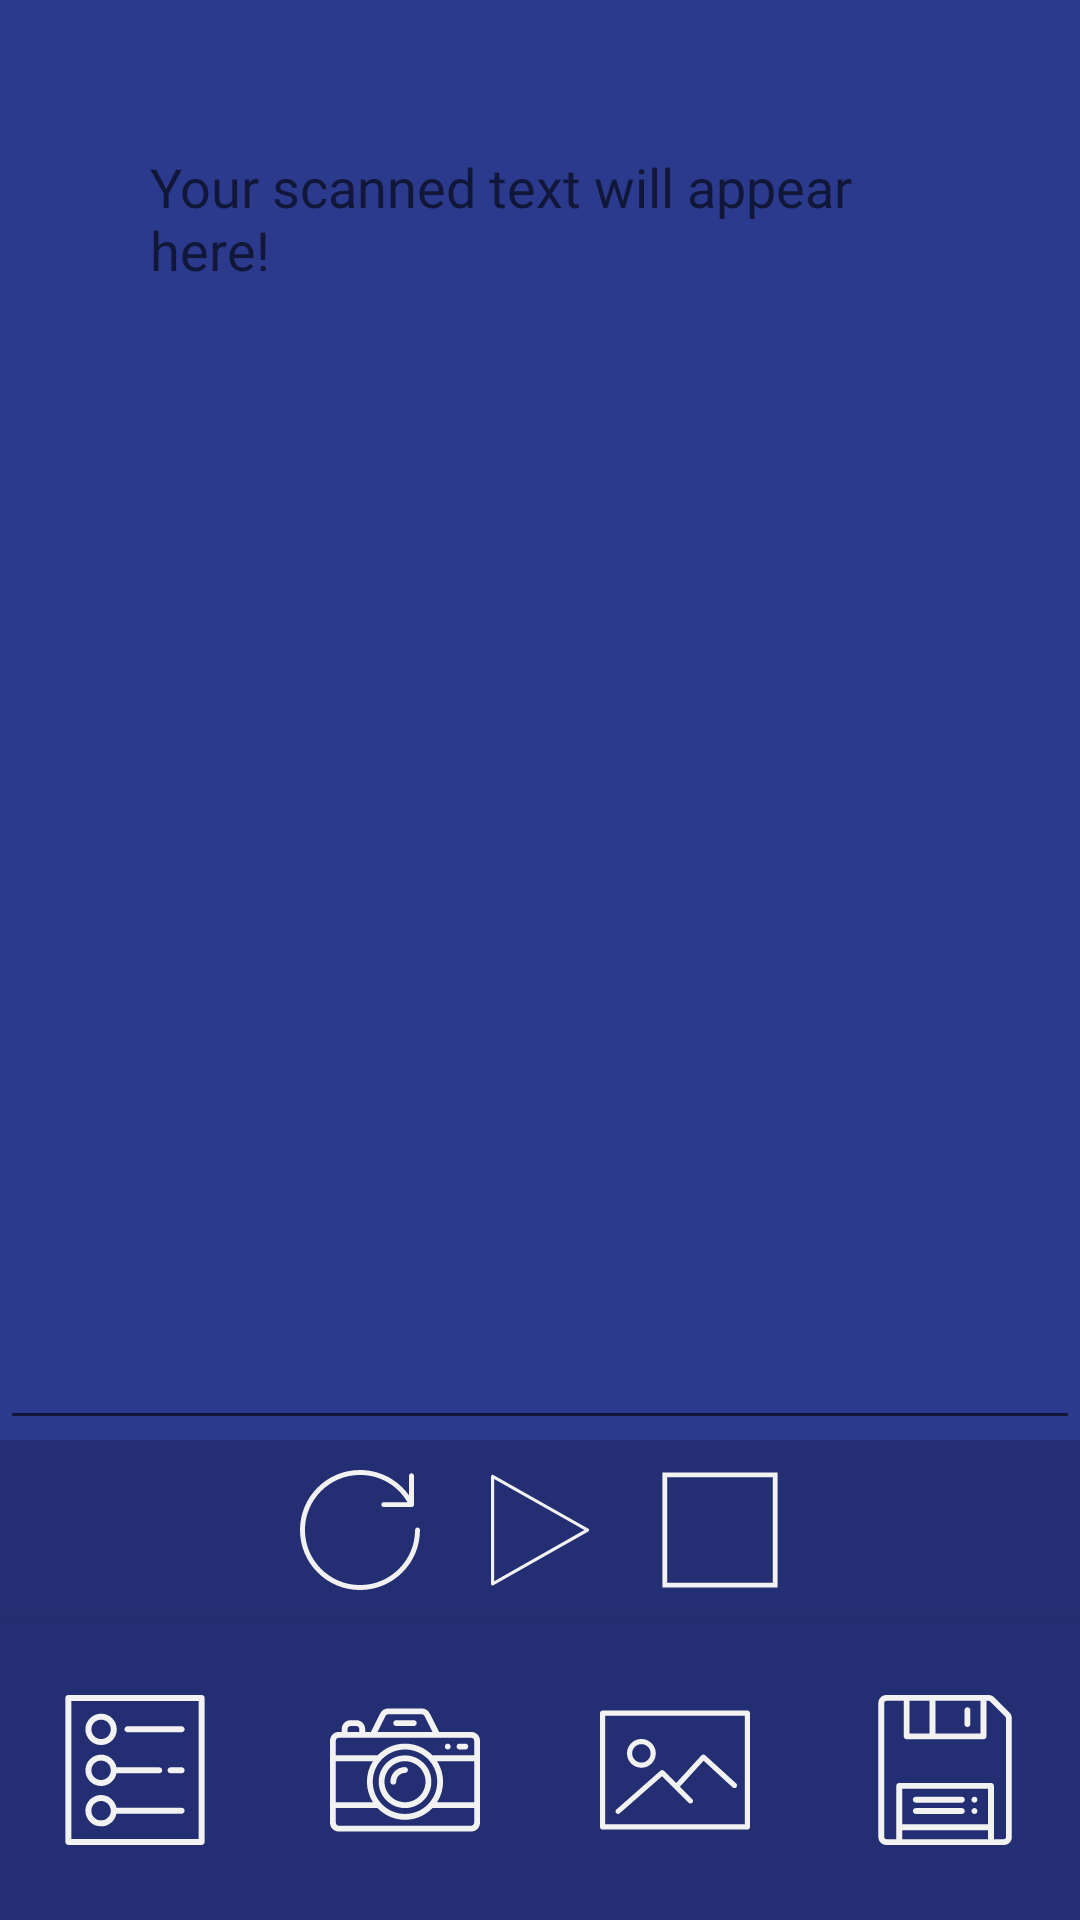

Where to tap for icons on this 1080px x 1920px app screen, as (x,y):
Gallery Button: (675,1770)
List Button: (135,1770)
play: (540,1530)
reader camera: (405,1770)
reader save: (945,1770)
replay: (360,1530)
stop: (720,1530)
